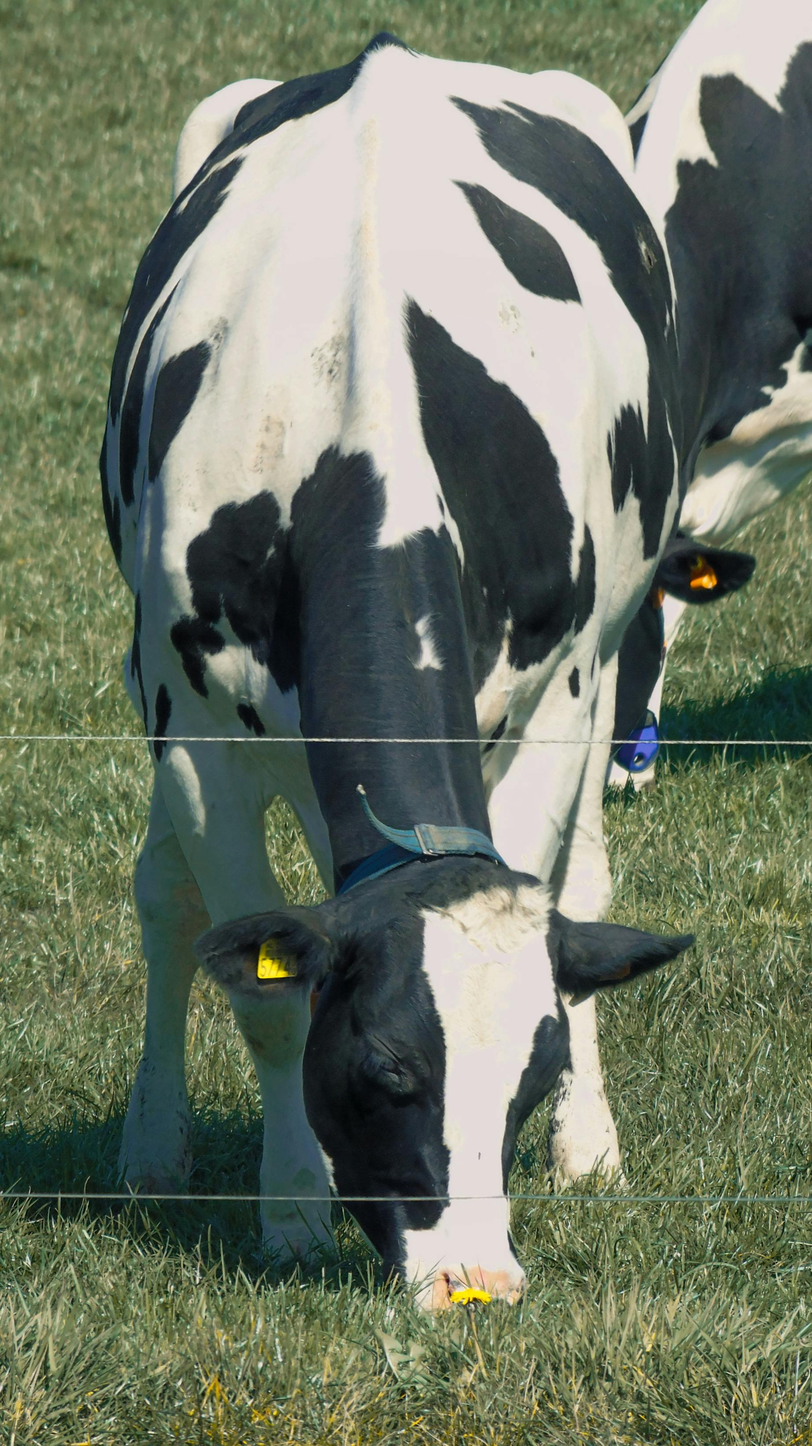bovino: (99, 33, 688, 1317)
